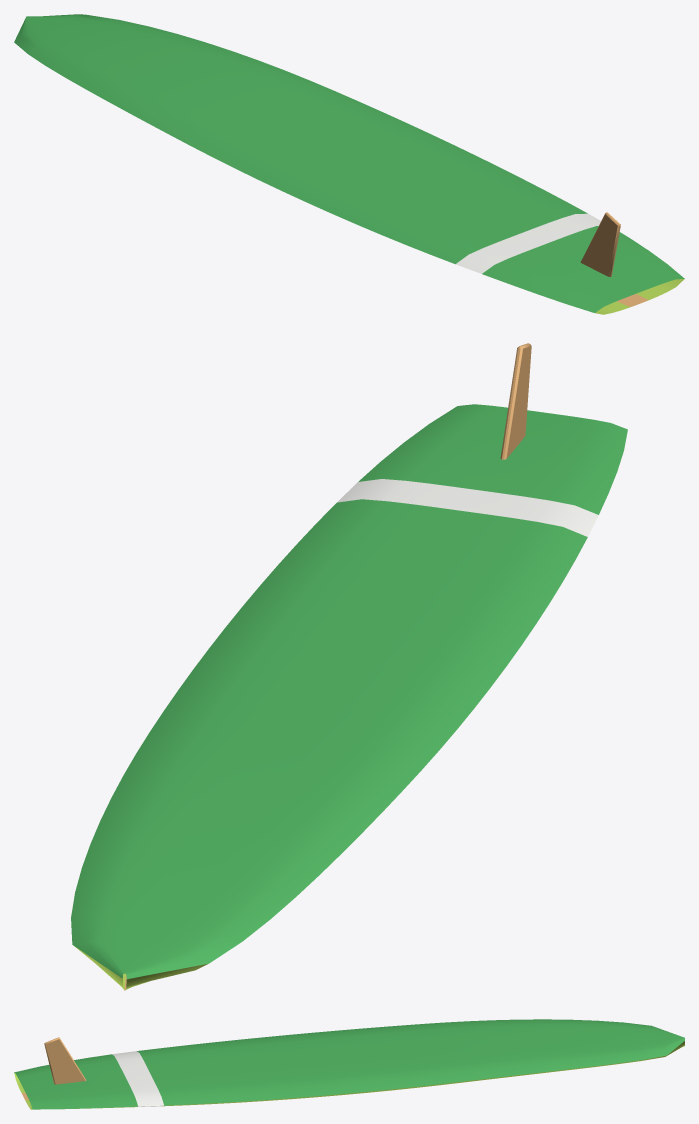
The model's file is prancha_surfe_longboard_verde.glb.
The picture shows the model from 3 angles, top to bottom: view 1: azimuth 30°, elevation 25°; view 2: azimuth 150°, elevation 25°; view 3: azimuth 270°, elevation 25°; orthographic projection. The views are drawn at different scales.
Parts seen in each view (by area): view 1: prancha_surfe_longboard_verde; view 2: prancha_surfe_longboard_verde; view 3: prancha_surfe_longboard_verde.
Part boxes in pixels (x1,y1,x2,y2): prancha_surfe_longboard_verde: [14, 14, 684, 314]; prancha_surfe_longboard_verde: [71, 343, 627, 990]; prancha_surfe_longboard_verde: [14, 1019, 684, 1109].
Bounding box in the file's own units: 0.8435 × 0.2752 × 2.58.
1 material, 1 textured.
